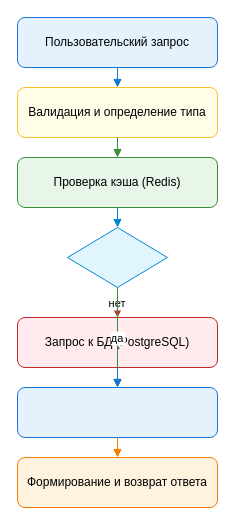
Image size: 235x525. Some labels were removed from this diagram. The shapes that lost their labels are listed below. From the top down, each one's centre as x and y in pixels, then its label:
At [117,257]: "Данные найдены?".
At [117,412]: "Обработка (кластеризация, маршрут...)".
